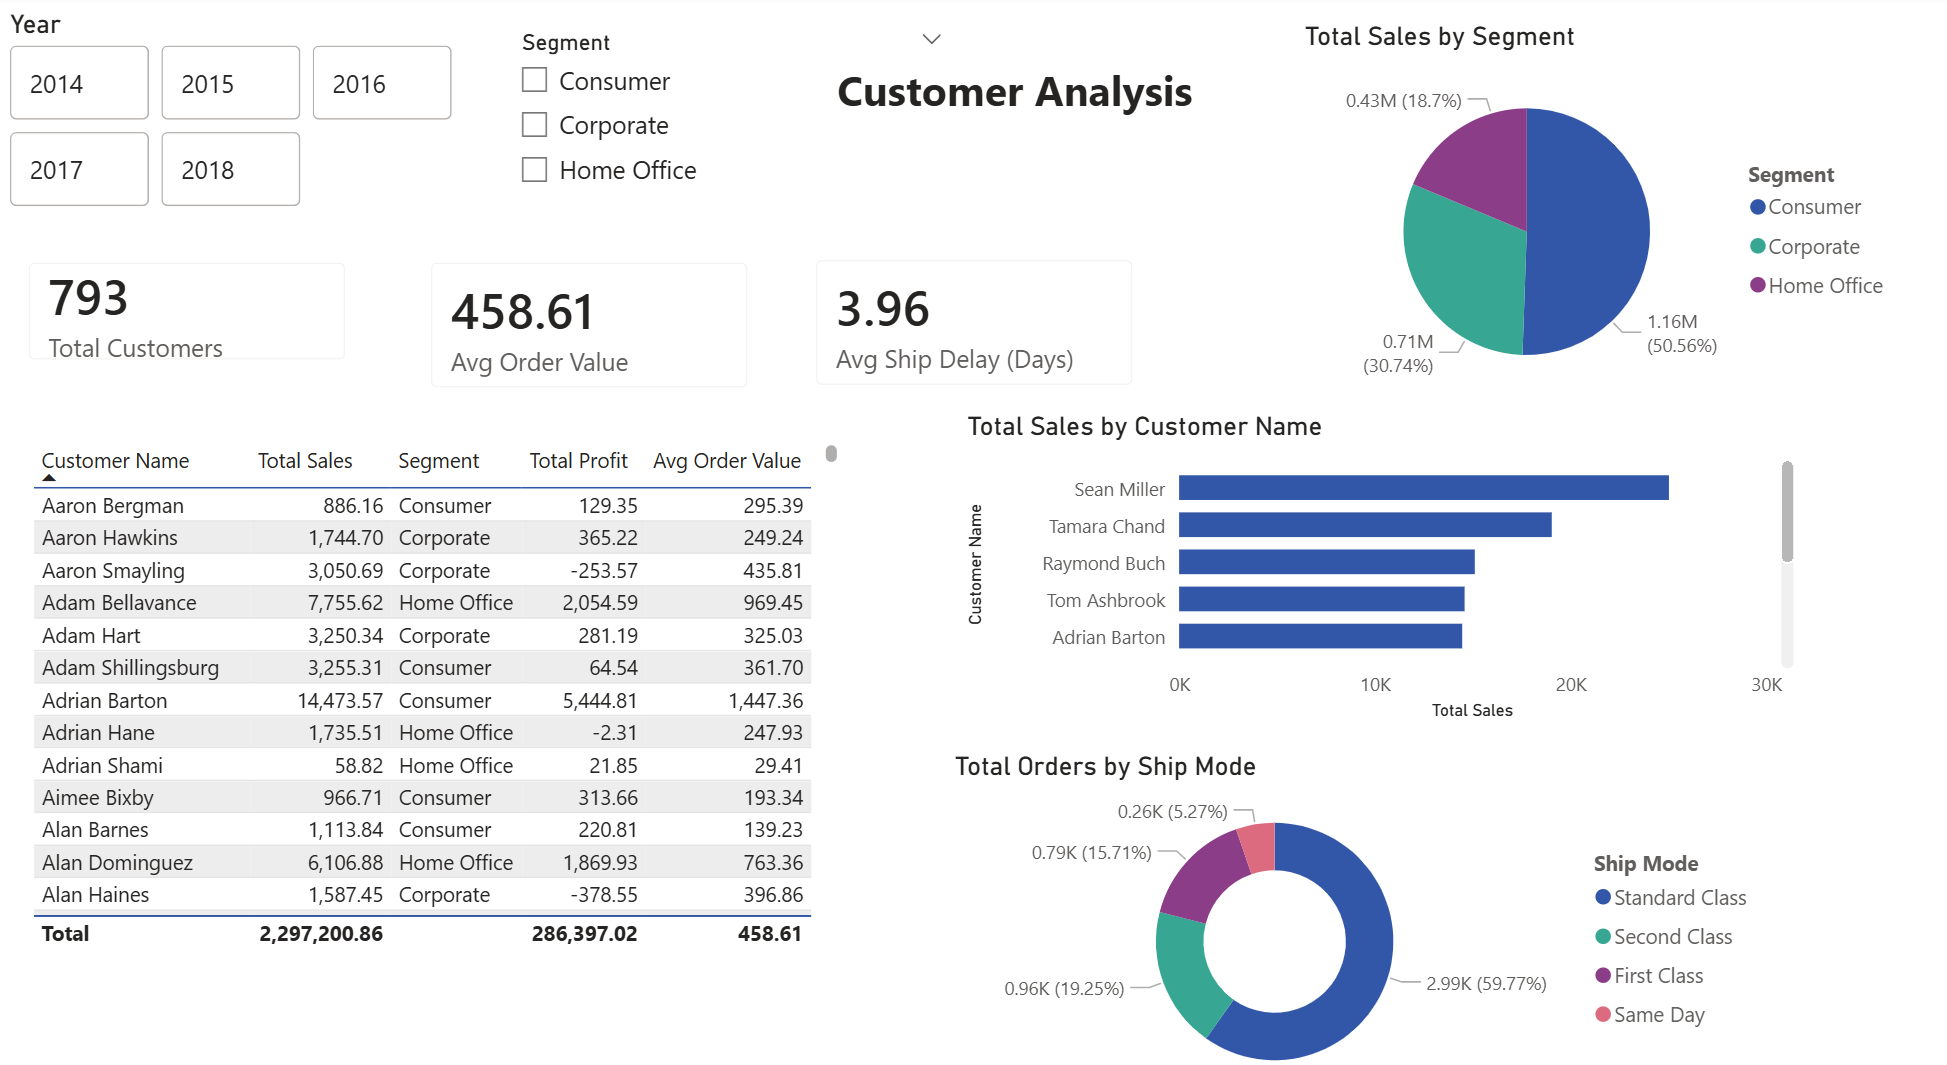

Layout of this report page (visuals, bound fields, positions):
{"tool":"powerbi","page":{"name":"Customer Analysis","canvas":[1280,720],"ordinal":2},"visuals":[{"type":"advancedSlicerVisual","fields":{"Values":["Date.Year"]},"box":[10.1,11.6,297.1,134.8],"z":0},{"type":"slicer","fields":{"Values":["Sample - Superstore.Segment"]},"box":[333.3,18.8,297.1,120.3],"z":1000},{"type":"cardVisual","fields":{"Data":["Date.Avg Order Value"]},"box":[269.6,158,239,115],"z":2000},{"type":"cardVisual","fields":{"Data":["Sample - Superstore.Total Customers"]},"box":[10.1,158,239.1,97],"z":3000},{"type":"cardVisual","fields":{"Data":["Date.Avg Ship Delay (Days)"]},"box":[520.3,156.5,239.1,115.9],"z":4000},{"type":"barChart","fields":{"Category":["Sample - Superstore.Customer Name"],"Y":["Date.Total Sales"]},"box":[630.4,272.5,544.9,204.3],"z":5000},{"type":"pieChart","fields":{"Category":["Sample - Superstore.Segment"],"Y":["Date.Total Sales"]},"box":[847.8,18.8,394.2,253.6],"z":6000},{"type":"tableEx","fields":{"Values":["Sample - Superstore.Customer Name","Date.Total Sales","Sample - Superstore.Segment","Date.Total Profit","Date.Avg Order Value"]},"box":[24.6,288.4,531.9,336.2],"z":7000},{"type":"donutChart","fields":{"Category":["Sample - Superstore.Ship Mode"],"Y":["Date.Total Orders"]},"box":[621.7,492.8,531.9,227.5],"z":8000},{"type":"textbox","box":[544.9,40.6,252.2,50.7],"z":9000}]}

Visuals, with their boxes in screenshot pixels (x1, y1, x2, y2), scaled from the page's 1280x720 canvas onto the 1947x1065 screenshot:
advancedSlicerVisual - Date.Year: (15,17,467,217)
slicer - Sample - Superstore.Segment: (507,28,959,206)
cardVisual - Date.Avg Order Value: (410,234,774,404)
cardVisual - Sample - Superstore.Total Customers: (15,234,379,377)
cardVisual - Date.Avg Ship Delay (Days): (791,231,1155,403)
barChart - Sample - Superstore.Customer Name x Date.Total Sales: (959,403,1788,705)
pieChart - Sample - Superstore.Segment x Date.Total Sales: (1290,28,1889,403)
tableEx - Sample - Superstore.Customer Name x Date.Total Sales: (37,427,846,924)
donutChart - Sample - Superstore.Ship Mode x Date.Total Orders: (946,729,1755,1064)
textbox: (829,60,1212,135)
